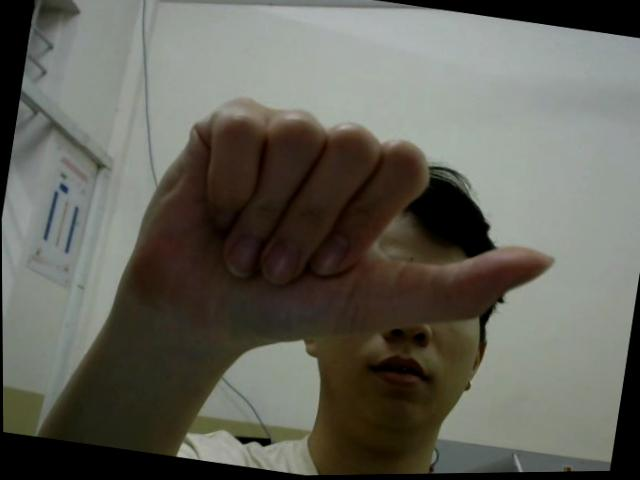A: (116, 77, 573, 379)
